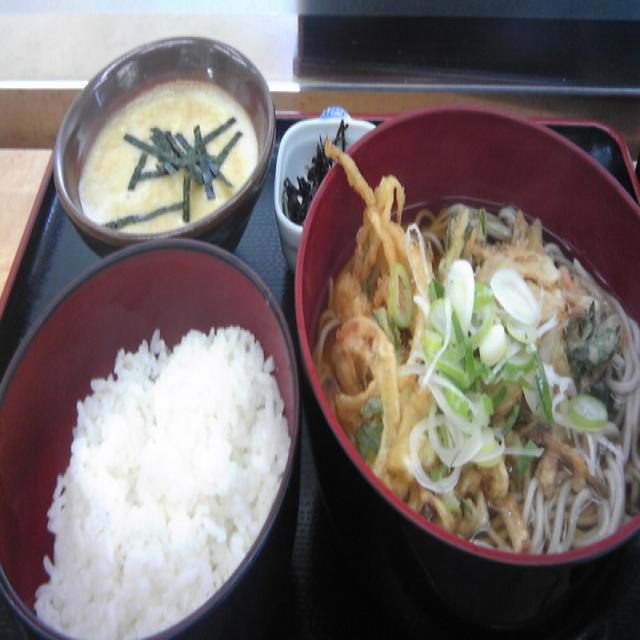rice: (65, 350, 248, 586)
